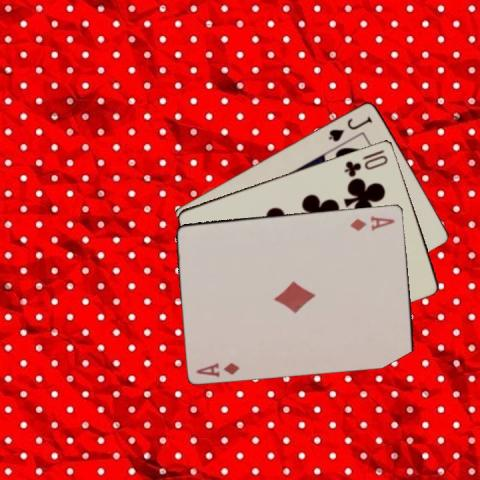10c: (342, 146, 390, 178)
Ad: (347, 212, 396, 232), (194, 359, 242, 378)
Js: (325, 113, 374, 143)
